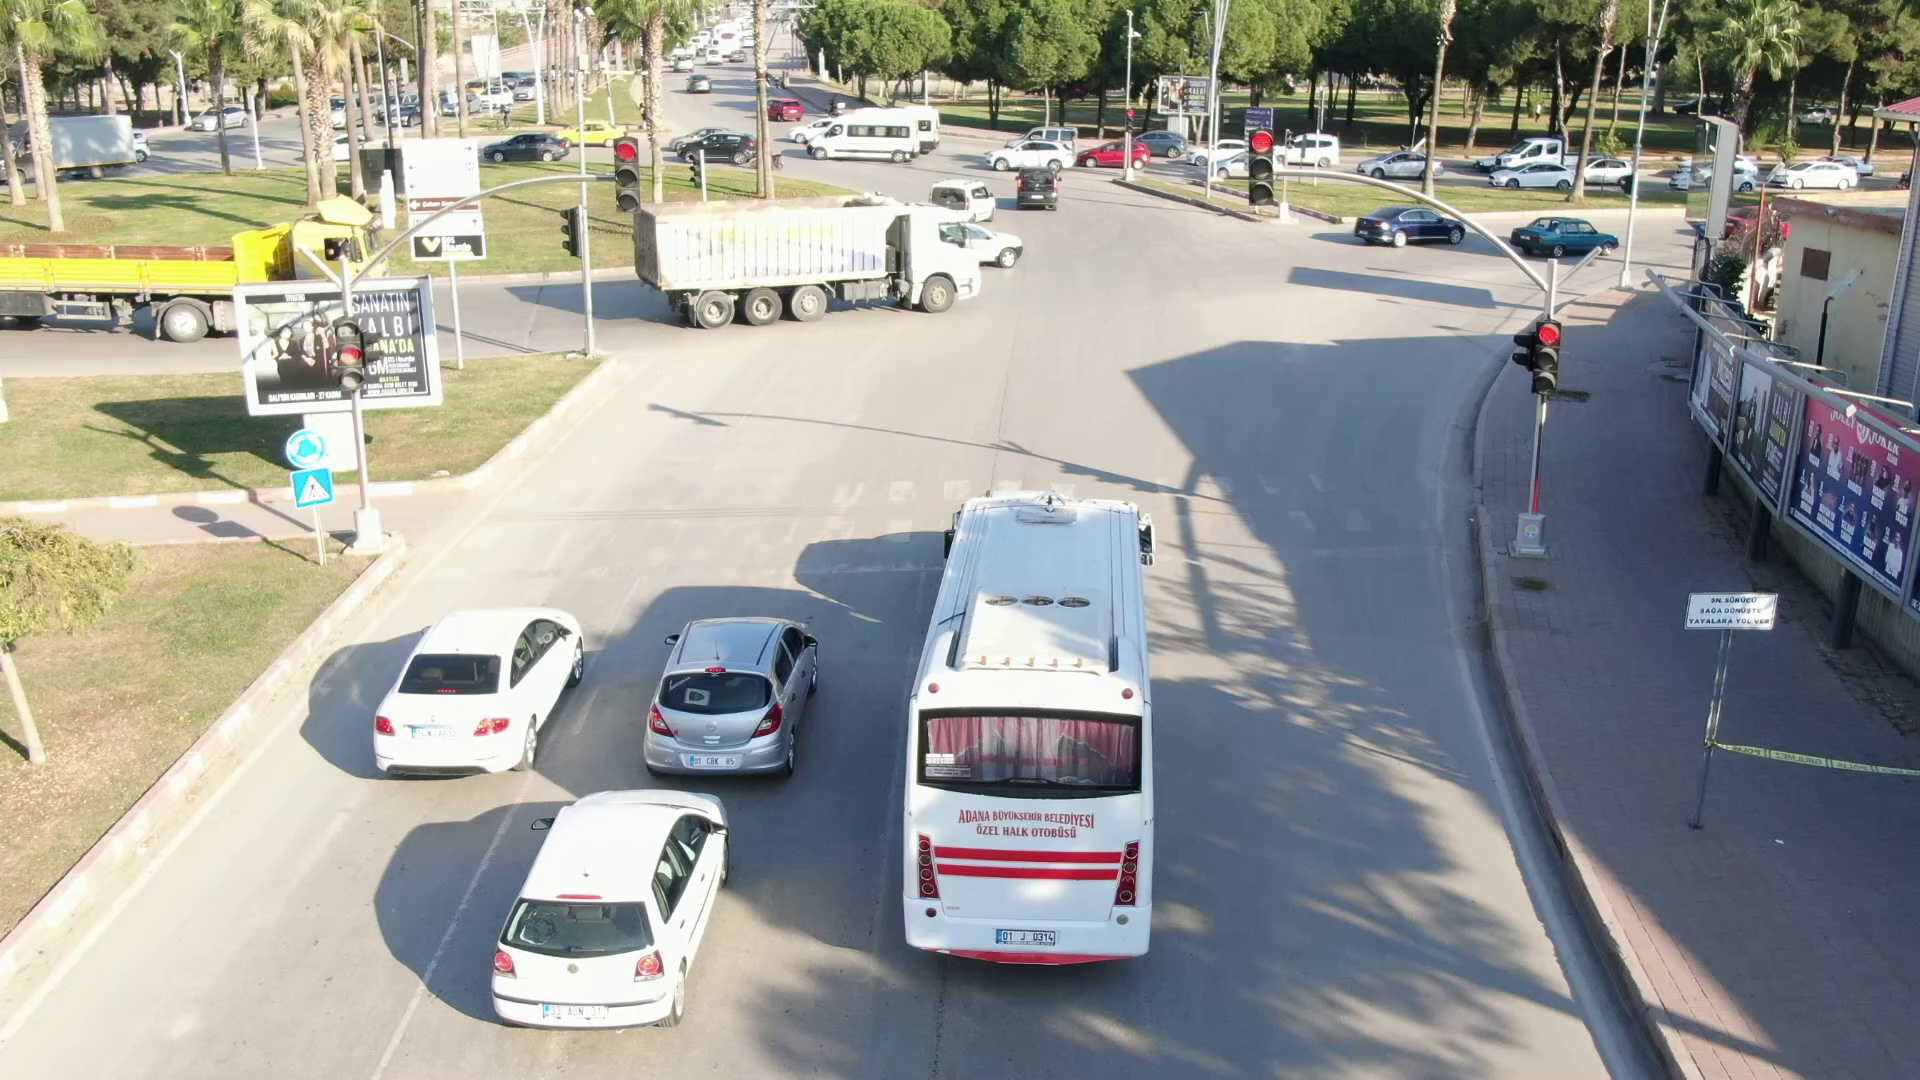car: (891, 487, 1184, 959), (469, 774, 790, 1043), (625, 186, 992, 327), (347, 592, 603, 781), (625, 607, 847, 774), (1341, 204, 1484, 253), (1506, 214, 1629, 266), (1004, 153, 1072, 229)
